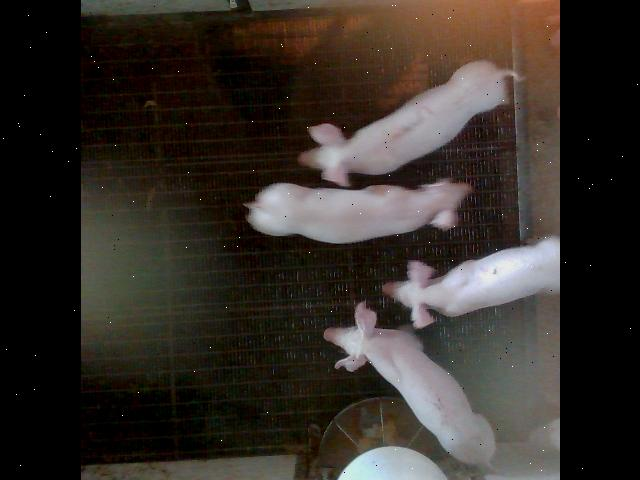pig-3: (298, 60, 518, 186)
